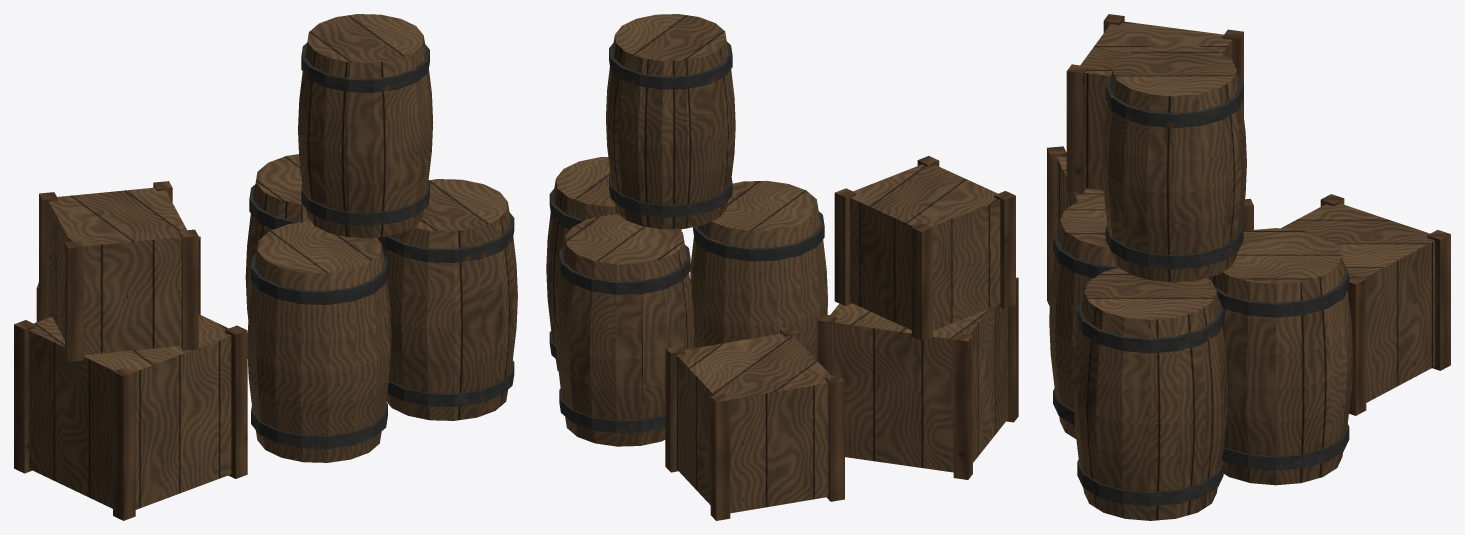
The model's file is Stores.fbx.
The picture shows the model from 3 angles, left to right: view 1: azimuth 30°, elevation 25°; view 2: azimuth 150°, elevation 25°; view 3: azimuth 270°, elevation 25°; orthographic projection. The views are drawn at different scales.
Visible parts, largest first — view 1: Stores; view 2: Stores; view 3: Stores.
Boxes of the visible parts, x1,y1,x2,y2 form: Stores: (14, 14, 517, 520); Stores: (546, 14, 1018, 520); Stores: (1047, 14, 1450, 520).
Size of the model in its own units: 2.35 by 1.77 by 1.67.
